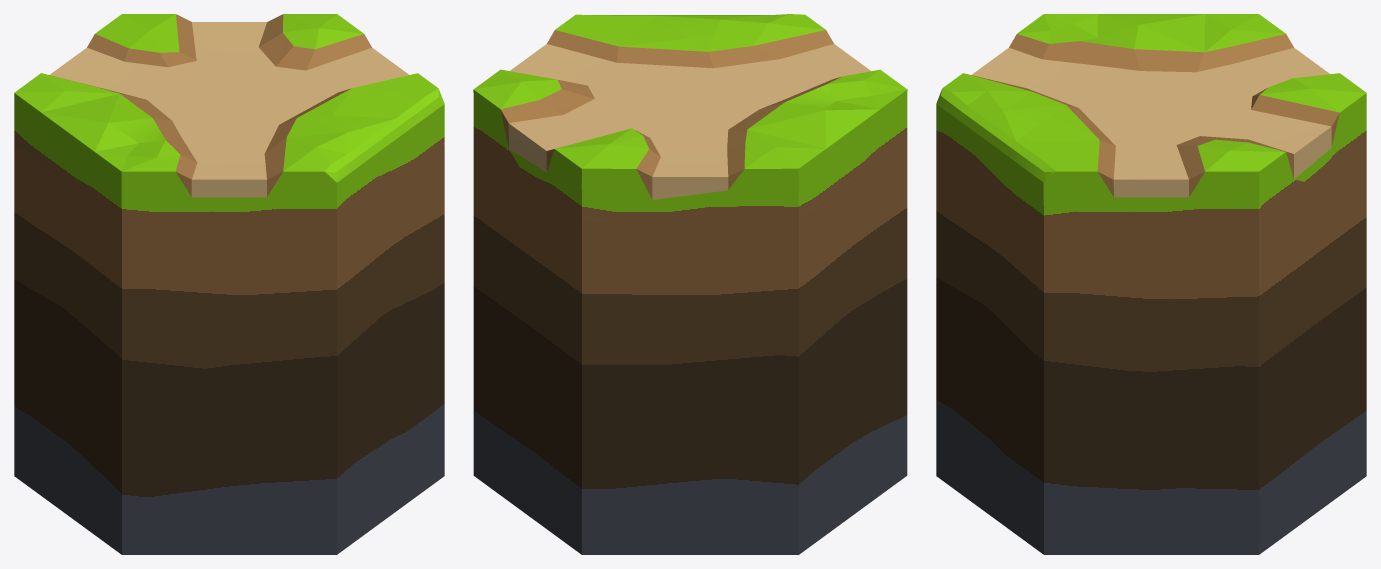
File: HexTilePath_4Way_3.glb
3 views of the same model, side by side, from view 1: azimuth 30°, elevation 25°; view 2: azimuth 150°, elevation 25°; view 3: azimuth 270°, elevation 25° (orthographic).
Parts seen in each view (by area): view 1: HexTilePath_4Way_3; view 2: HexTilePath_4Way_3; view 3: HexTilePath_4Way_3.
Boxes of the visible parts, x1,y1,x2,y2 form: HexTilePath_4Way_3: (14,14,444,554); HexTilePath_4Way_3: (473,14,907,554); HexTilePath_4Way_3: (936,14,1366,554).
Bounding box in the file's own units: 1.73 × 1.99 × 2.
Materials: 1 (1 with a texture image).
